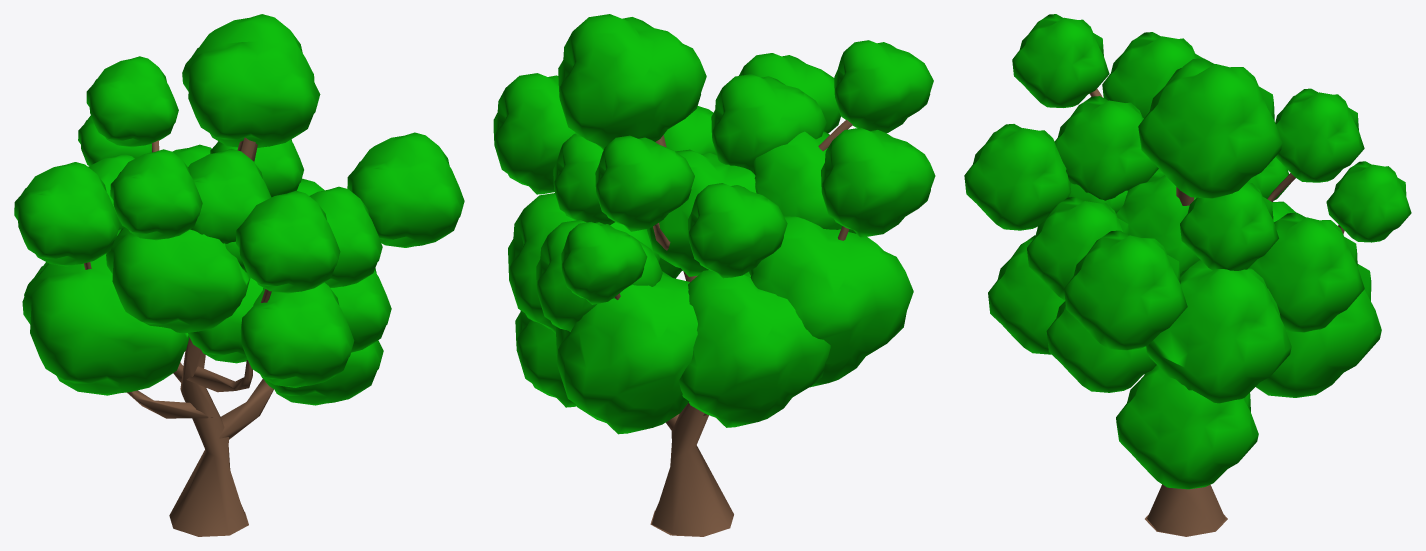
Rendered from Base tree_LOD10.fbx.
The picture shows the model from 3 angles, left to right: view 1: azimuth 30°, elevation 25°; view 2: azimuth 150°, elevation 25°; view 3: azimuth 270°, elevation 25°; orthographic projection. The views are drawn at different scales.
Visible parts, largest first — view 1: VG_Tree_01; view 2: VG_Tree_01; view 3: VG_Tree_01.
Part boxes in pixels (x1,y1,x2,y2): VG_Tree_01: (14, 14, 464, 536); VG_Tree_01: (493, 14, 935, 536); VG_Tree_01: (964, 14, 1411, 536).
Size of the model in its own units: 7.95 by 8.5 by 7.13.
